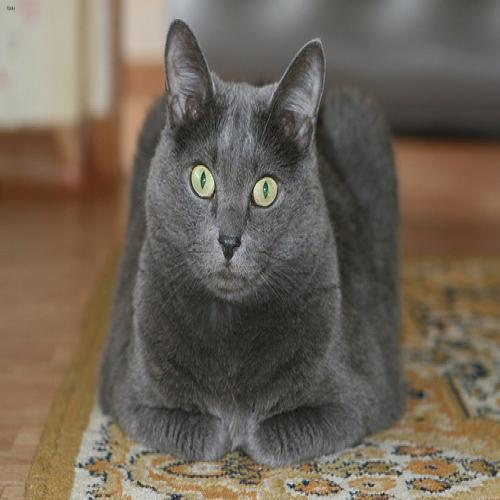rblue: (144, 19, 337, 317)
